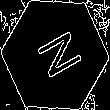N_SW: (27, 26, 83, 84)
